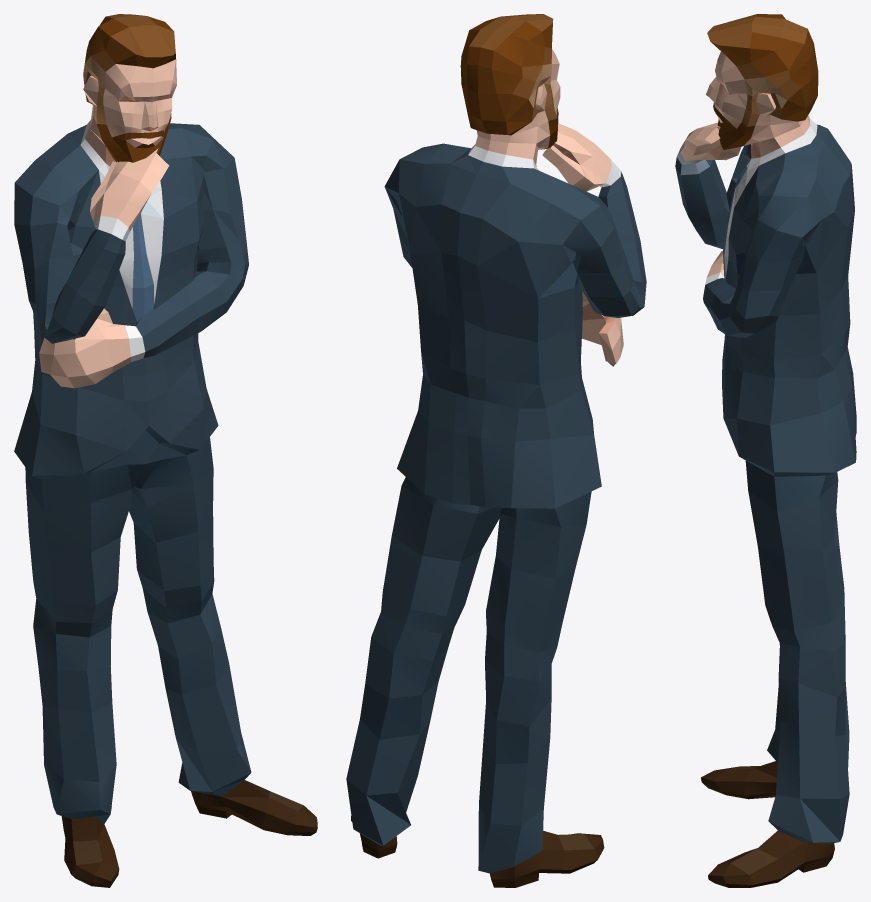
The model's file is man_2.dae.
3 renders of one model, left to right at view 1: azimuth 30°, elevation 25°; view 2: azimuth 150°, elevation 25°; view 3: azimuth 270°, elevation 25°, orthographic. The views are drawn at different scales.
Visible parts, largest first — view 1: huitugou_2139_473; view 2: huitugou_2139_473; view 3: huitugou_2139_473.
Boxes of the visible parts, x1,y1,x2,y2 form: huitugou_2139_473: (14, 14, 317, 887); huitugou_2139_473: (346, 14, 646, 887); huitugou_2139_473: (675, 14, 856, 887).
Bounding box in the file's own units: 0.6115 × 0.3644 × 1.76.
1 material, 1 textured.
